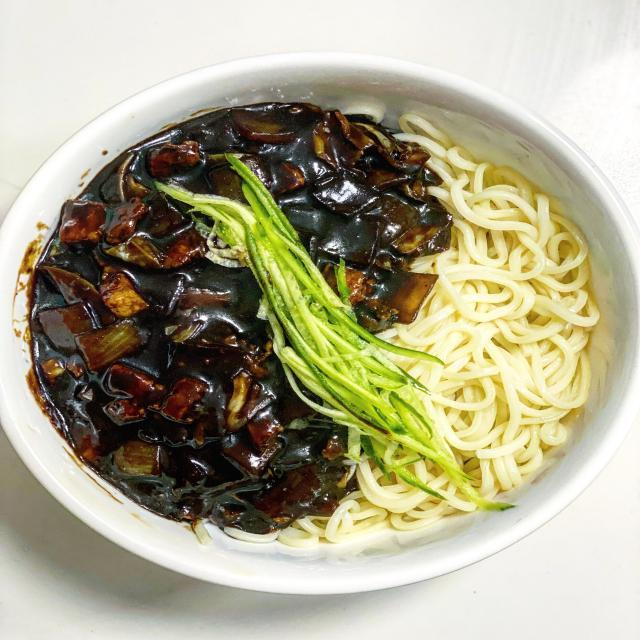cac loai rau cu: (172, 156, 452, 471), (337, 148, 434, 259), (337, 262, 433, 328), (51, 195, 158, 249), (76, 312, 149, 378), (154, 373, 204, 426), (50, 262, 102, 309), (39, 303, 88, 350), (105, 366, 162, 400), (113, 443, 154, 484), (103, 396, 145, 426)
mi jajangmyeon: (405, 119, 602, 514), (328, 467, 458, 556)
mi tuong den Jajangmyeon: (8, 62, 637, 591)
sot tuong den: (48, 104, 211, 535), (219, 105, 415, 232)
